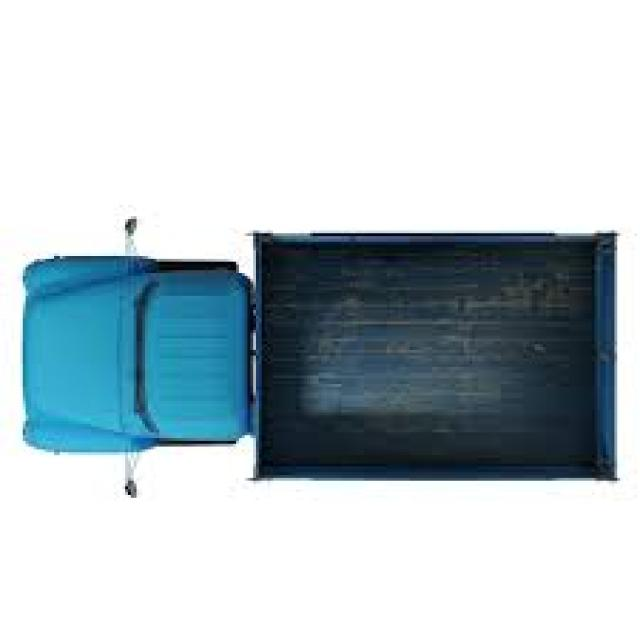truck: (23, 230, 615, 487)
